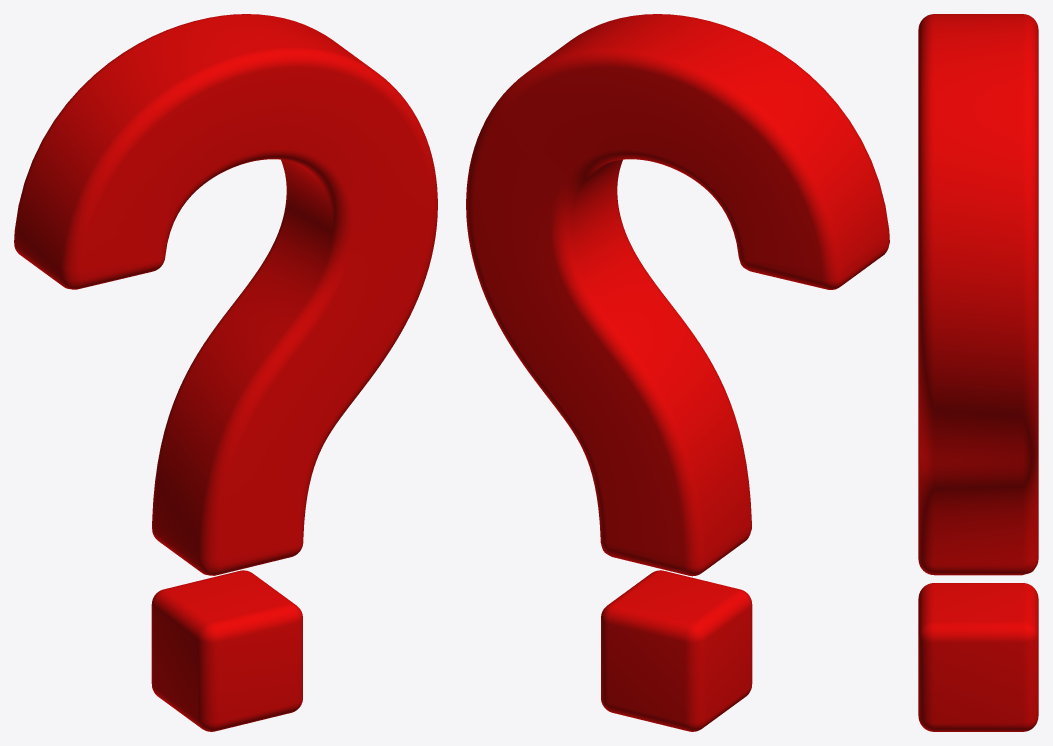
Rendered from question.gltf.
The picture shows the model from 3 angles, left to right: view 1: azimuth 30°, elevation 25°; view 2: azimuth 150°, elevation 25°; view 3: azimuth 270°, elevation 25°; orthographic projection.
Visible parts, largest first — view 1: NurbsPath; view 2: NurbsPath; view 3: NurbsPath.
Part boxes in pixels (x1=…): NurbsPath: x1=14, y1=14, x2=437, y2=731; NurbsPath: x1=466, y1=14, x2=889, y2=731; NurbsPath: x1=918, y1=14, x2=1038, y2=731.
Bounding box in the file's own units: 7.28 × 12.38 × 2.
